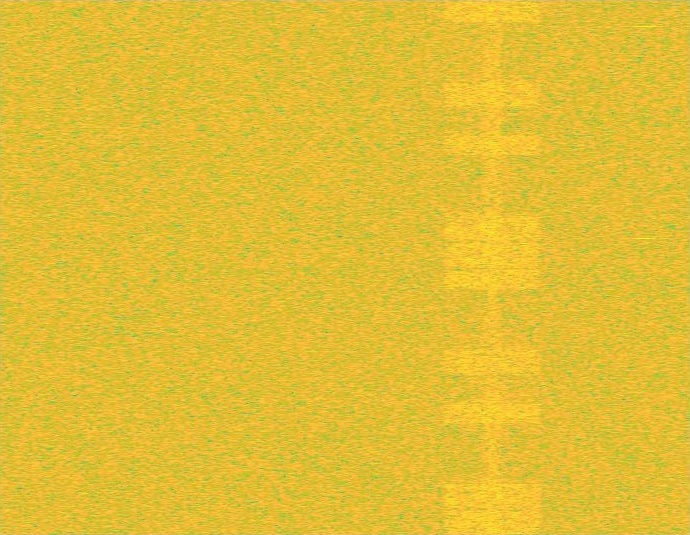DSSS: (481, 0, 504, 534)
LTE: (441, 0, 544, 534)
Radar: (638, 0, 652, 534)
